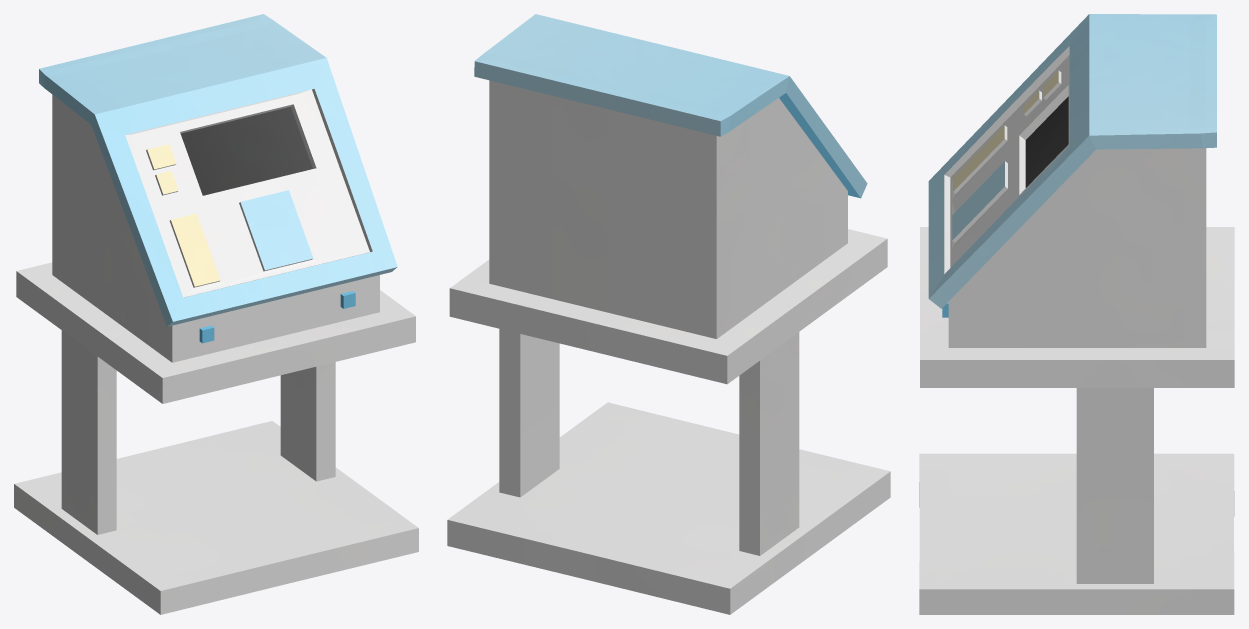
Rendered from machine_2.dae.
The picture shows the model from 3 angles, left to right: view 1: azimuth 30°, elevation 25°; view 2: azimuth 150°, elevation 25°; view 3: azimuth 270°, elevation 25°; orthographic projection. The views are drawn at different scales.
Visible parts, largest first — view 1: machine_2; view 2: machine_2; view 3: machine_2.
Part boxes in pixels (x1,y1,x2,y2): machine_2: [14, 14, 418, 614]; machine_2: [447, 14, 890, 614]; machine_2: [919, 14, 1234, 614].
Bounding box in the file's own units: 0.5123 × 0.5039 × 0.8355.
